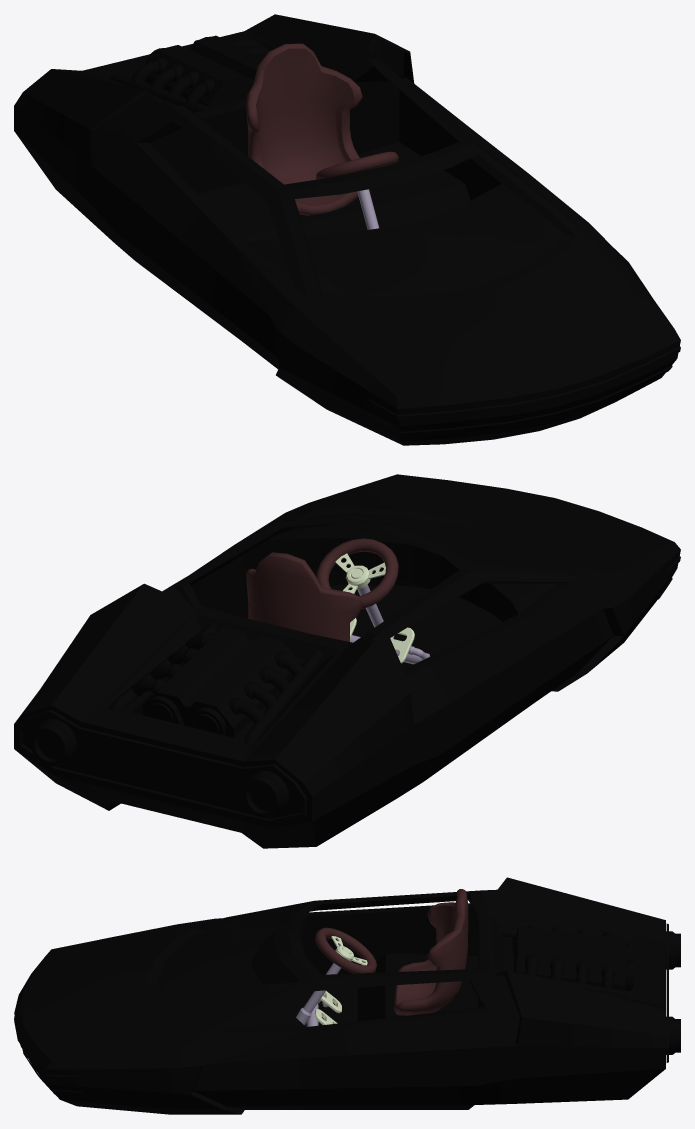
File: HoverKart_Body.fbx
The picture shows the model from 3 angles, top to bottom: view 1: azimuth 30°, elevation 25°; view 2: azimuth 150°, elevation 25°; view 3: azimuth 270°, elevation 25°; orthographic projection. The views are drawn at different scales.
Parts seen in each view (by area): view 1: Hover_body; view 2: Hover_body; view 3: Hover_body.
Boxes of the visible parts, x1,y1,x2,y2 form: Hover_body: (14, 14, 680, 445); Hover_body: (14, 474, 680, 848); Hover_body: (14, 877, 680, 1114).
Size of the model in its own units: 188 by 105 by 382.
